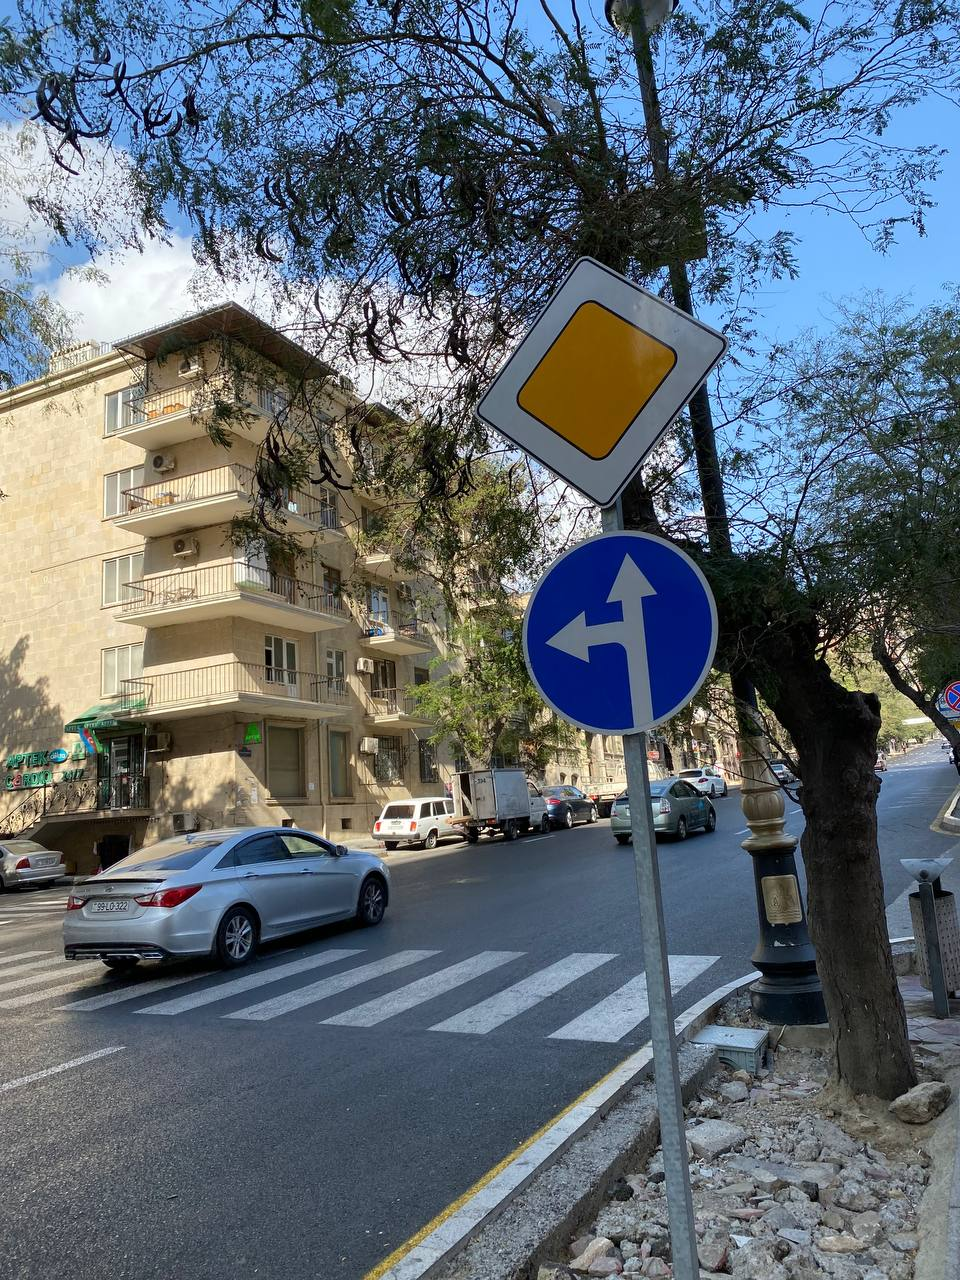Main Road: (477, 256, 729, 508)
Straight or Left: (524, 530, 719, 735)
